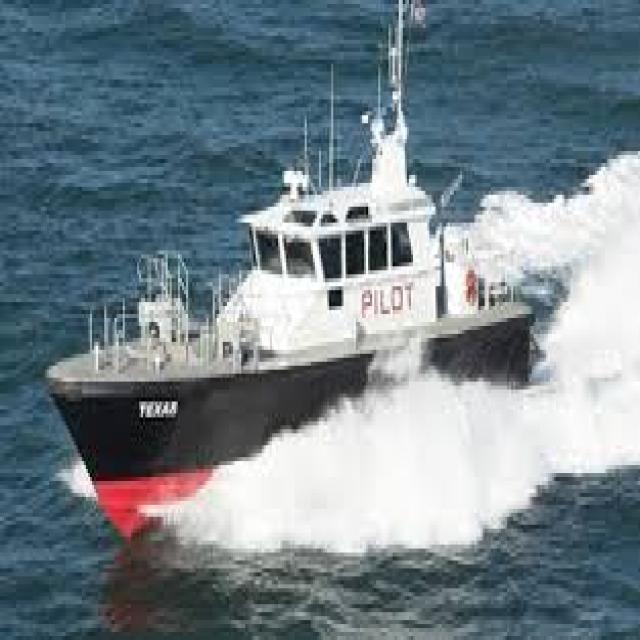houseboat: (39, 7, 541, 541)
